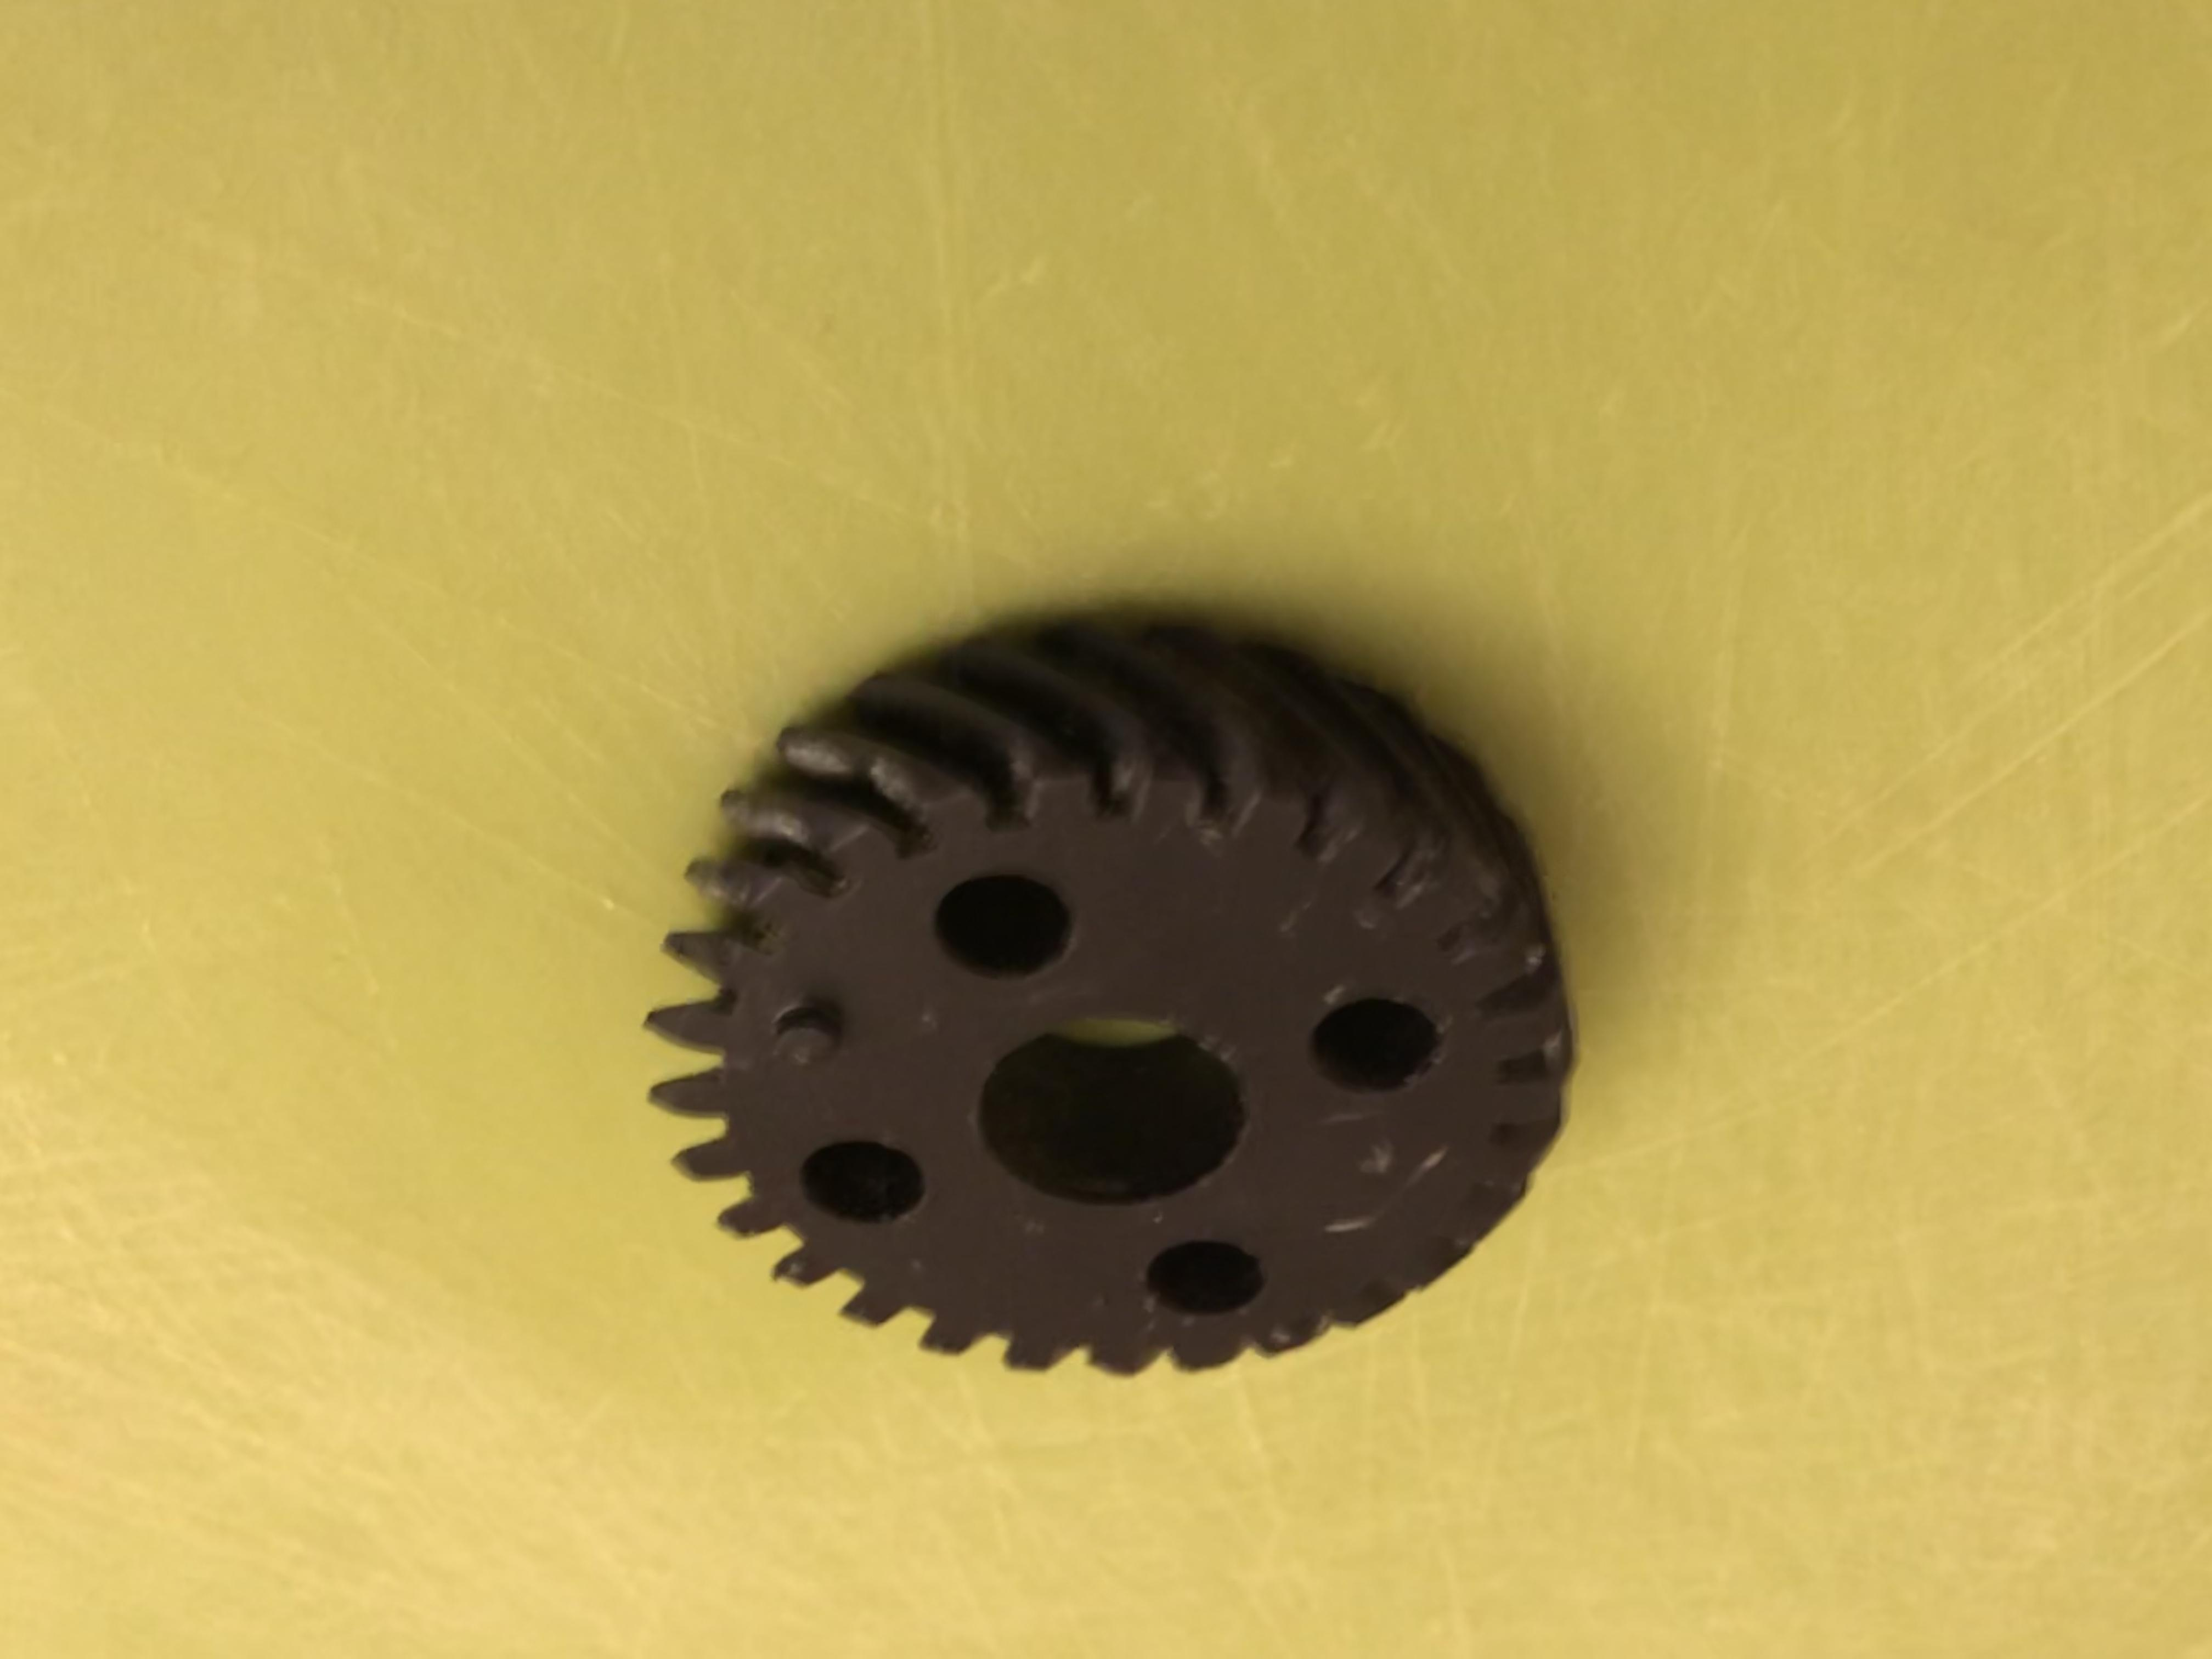Wheel: (641, 612, 1588, 1387)
